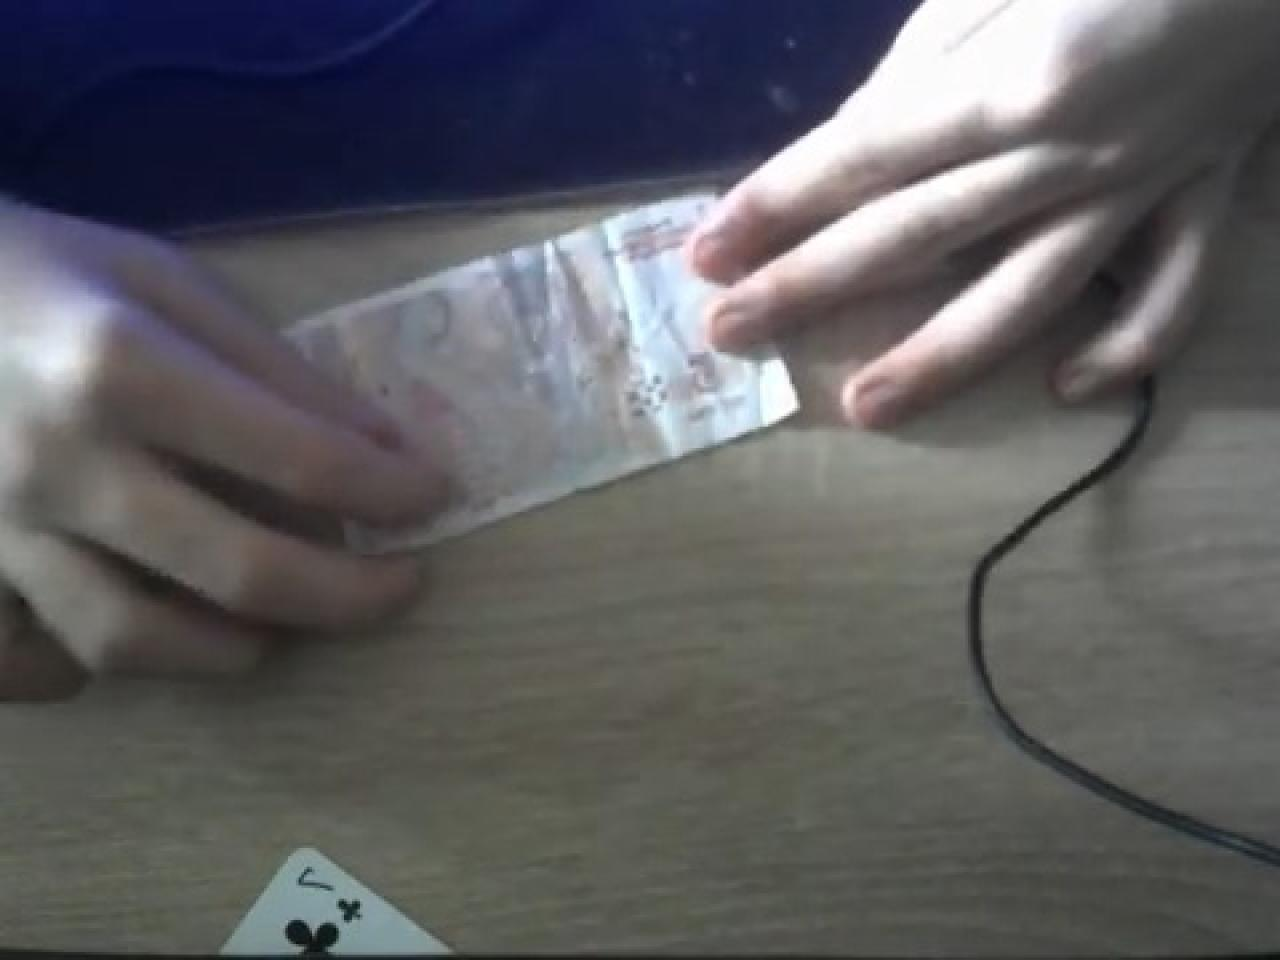5leva: (83, 192, 800, 563)
